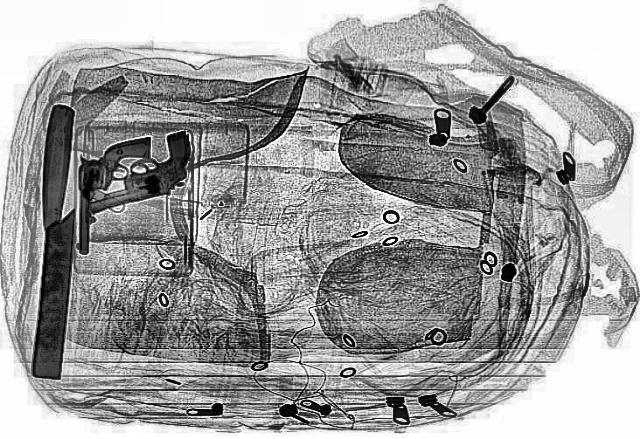Gun: (56, 130, 218, 214), (75, 136, 152, 254)
Knife: (27, 104, 83, 380)
